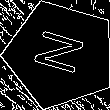N_E: (29, 28, 92, 81)
